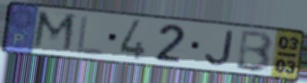2: (152, 23, 188, 65)
4: (117, 18, 149, 62)
B: (234, 29, 275, 74)
J: (202, 28, 236, 67)
L: (74, 14, 105, 57)
M: (30, 9, 79, 55)
